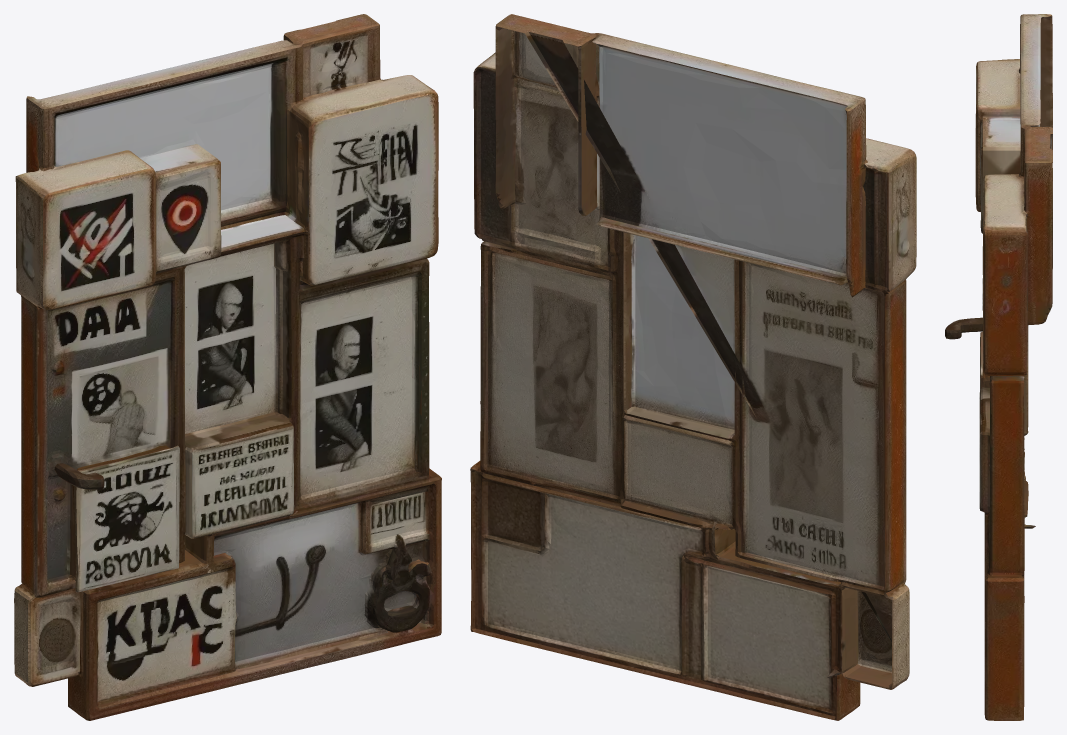
The model's file is chest (132).glb.
The picture shows the model from 3 angles, left to right: view 1: azimuth 30°, elevation 25°; view 2: azimuth 150°, elevation 25°; view 3: azimuth 270°, elevation 25°; orthographic projection. The views are drawn at different scales.
Visible parts, largest first — view 1: Hy21_Mesh.obj; view 2: Hy21_Mesh.obj; view 3: Hy21_Mesh.obj.
Part boxes in pixels (box(x1,y1,x2,y2)): Hy21_Mesh.obj: box(14, 14, 441, 720); Hy21_Mesh.obj: box(470, 14, 916, 720); Hy21_Mesh.obj: box(945, 14, 1052, 720).
Bounding box in the file's own units: 1.38 × 1.96 × 0.3531.
1 material, 1 textured.
